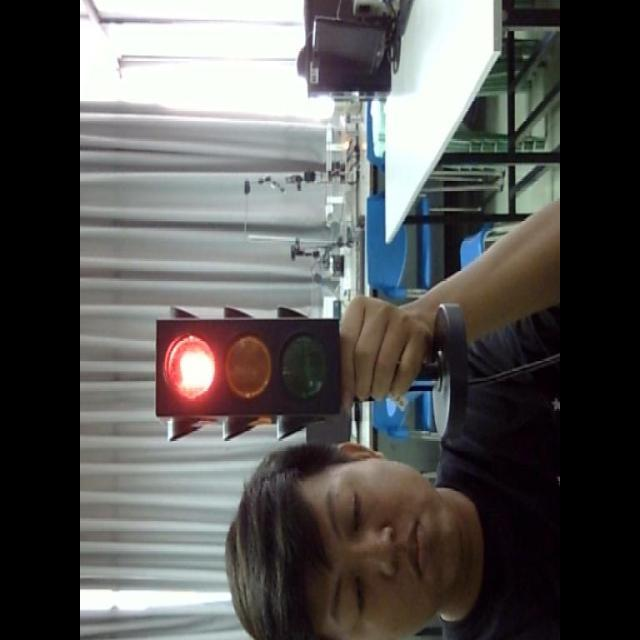red light: (162, 332, 221, 406)
